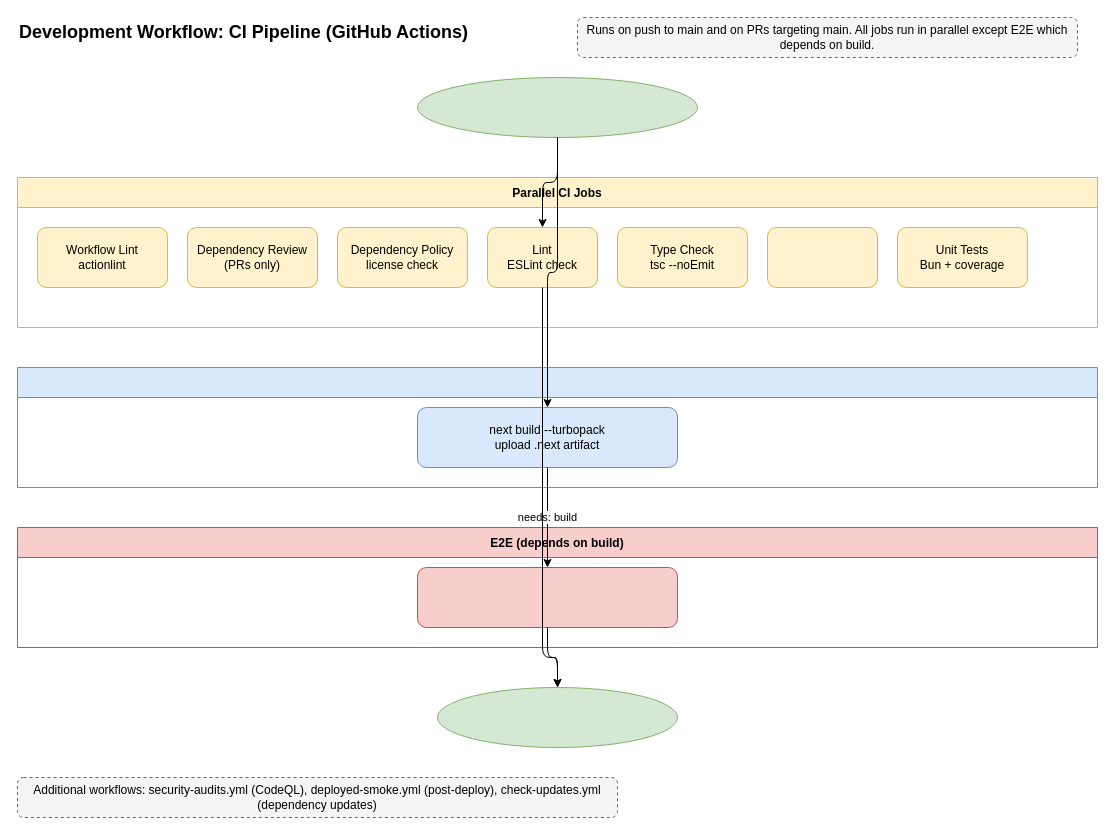
Some shapes in this 1115 by 835 pixel diagram are drawn without their labels. The shapes that lost their labels are listed below. From the top down, each one's box as (x1, y1, x2, y2) in pixels, then its label:
(416, 76, 698, 138): Push to main or PR opened
(766, 226, 878, 288): Unused Code Knip
(16, 366, 1098, 488): Build (parallel with above)
(416, 566, 678, 628): E2E Chromium Playwright + downloaded .next
(436, 686, 678, 748): All checks pass
